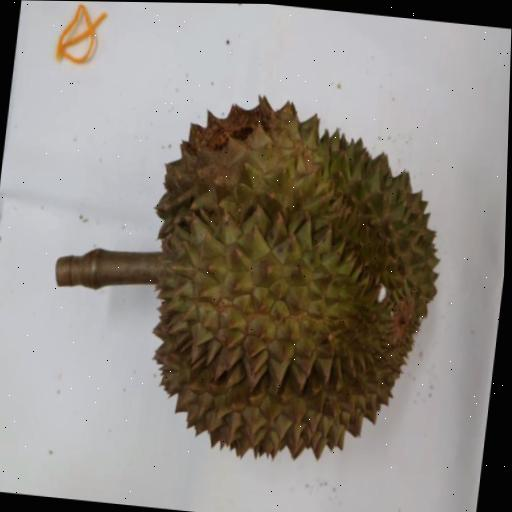rot: (0, 19, 489, 512)
